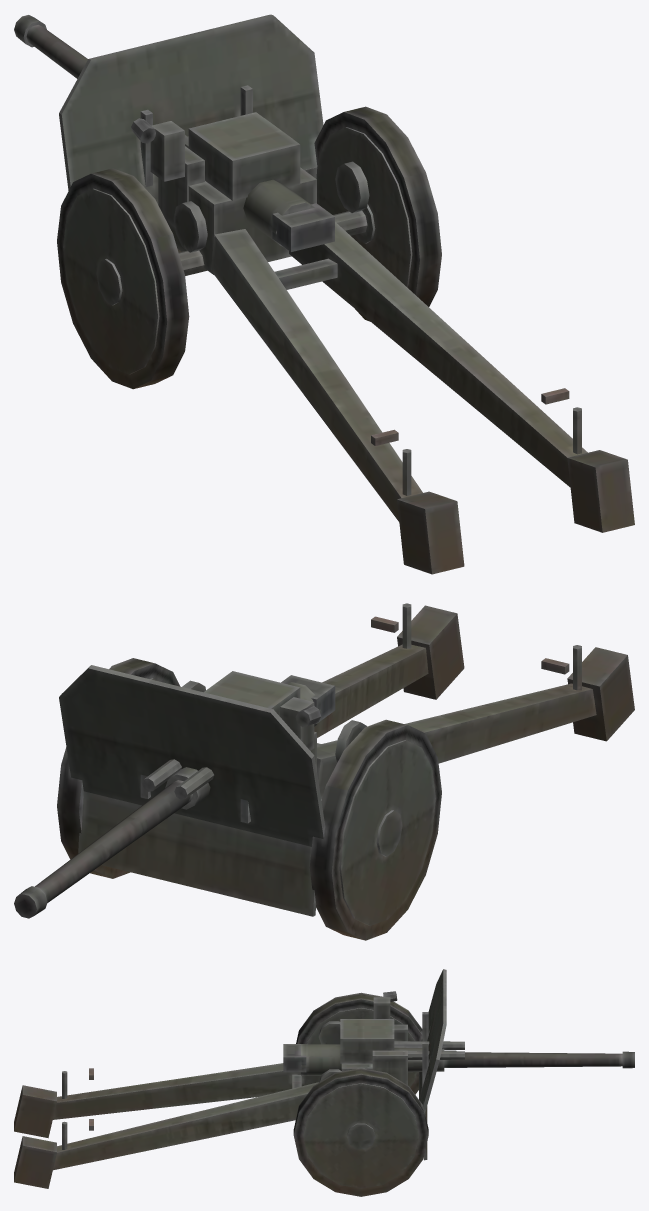
The model's file is howitzer_105_baked.glb.
3 renders of one model, top to bottom at view 1: azimuth 30°, elevation 25°; view 2: azimuth 150°, elevation 25°; view 3: azimuth 270°, elevation 25°, orthographic. The views are drawn at different scales.
Visible parts, largest first — view 1: howitzer_105, barrel; view 2: howitzer_105, barrel; view 3: howitzer_105, barrel.
Part boxes in pixels (bbox=[...]): howitzer_105: bbox=[57, 14, 634, 574]; barrel: bbox=[14, 15, 334, 251]; howitzer_105: bbox=[57, 603, 634, 940]; barrel: bbox=[14, 675, 335, 918]; howitzer_105: bbox=[14, 969, 446, 1196]; barrel: bbox=[283, 1041, 634, 1075].
Size of the model in its own units: 1.92 by 1.73 by 5.99.
Materials: 1 (1 with a texture image).
